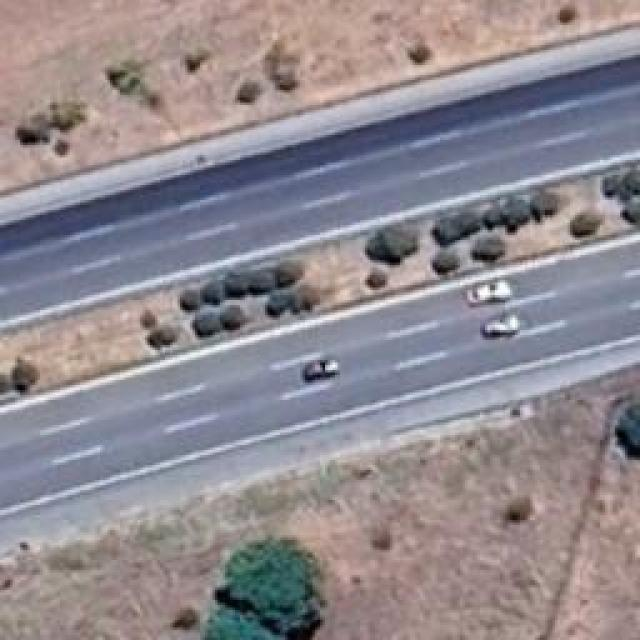Tree: (205, 543, 327, 631), (198, 608, 300, 640), (110, 63, 158, 105), (370, 225, 420, 265), (608, 400, 640, 461), (217, 295, 251, 333), (15, 115, 54, 147), (8, 360, 38, 397), (45, 100, 83, 129), (568, 210, 603, 240), (503, 495, 533, 528), (530, 190, 563, 220), (403, 40, 438, 67), (290, 290, 320, 320), (235, 75, 264, 106), (363, 267, 391, 299), (242, 265, 275, 292), (193, 310, 222, 340), (147, 328, 180, 354), (450, 205, 482, 231), (505, 200, 538, 224), (433, 210, 459, 240), (270, 260, 301, 283), (183, 48, 209, 73), (433, 250, 457, 277), (478, 238, 506, 261), (273, 68, 301, 91), (175, 603, 197, 631), (620, 168, 640, 198), (173, 292, 201, 312), (223, 265, 245, 290), (598, 173, 621, 196), (480, 210, 502, 232), (203, 277, 225, 299), (265, 298, 291, 316), (137, 307, 158, 329), (620, 203, 640, 226), (555, 5, 576, 24), (53, 138, 71, 157)
